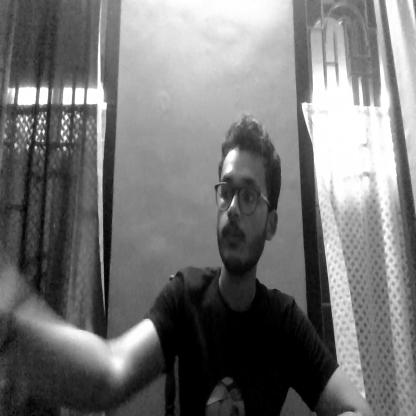Distracted: (211, 101, 281, 294)
